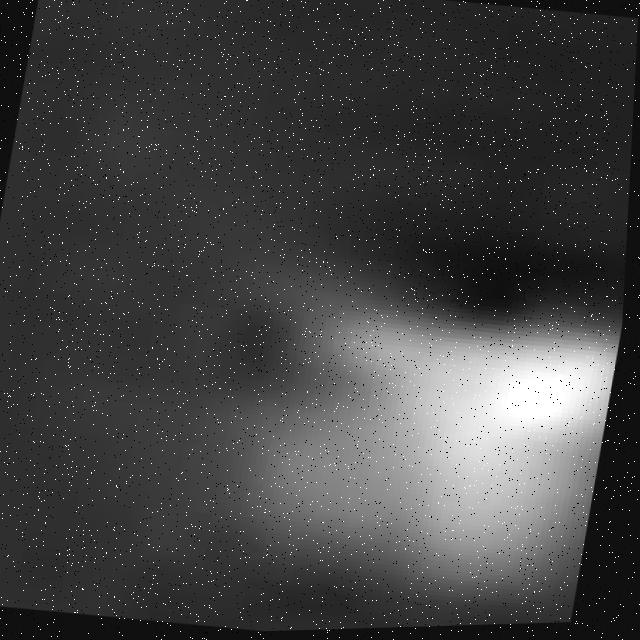person: (116, 249, 630, 623)
